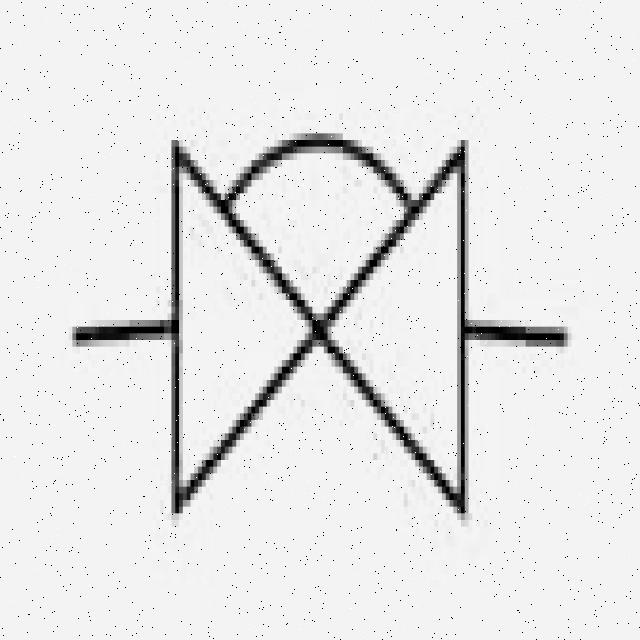Diaphragm Valve: (126, 100, 538, 560)
